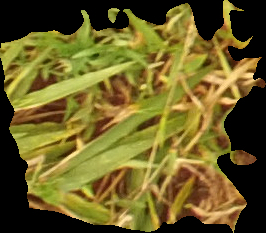grass: (1, 1, 264, 232)
